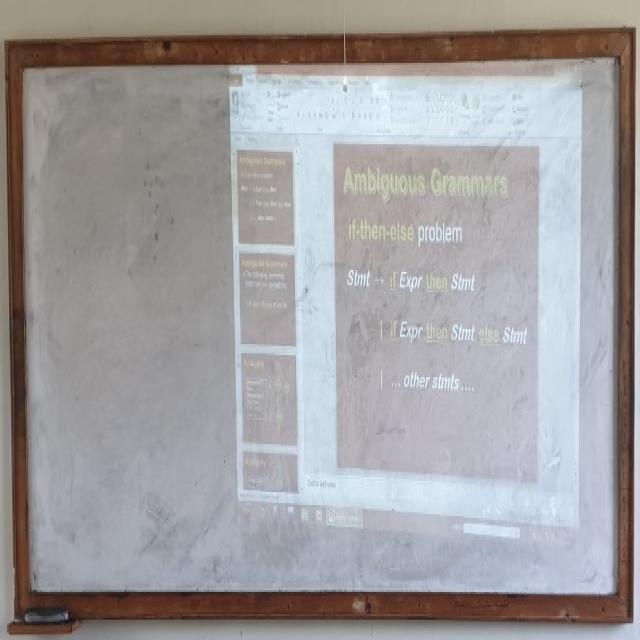Slide: (227, 49, 584, 551)
White-board: (14, 44, 628, 609)
